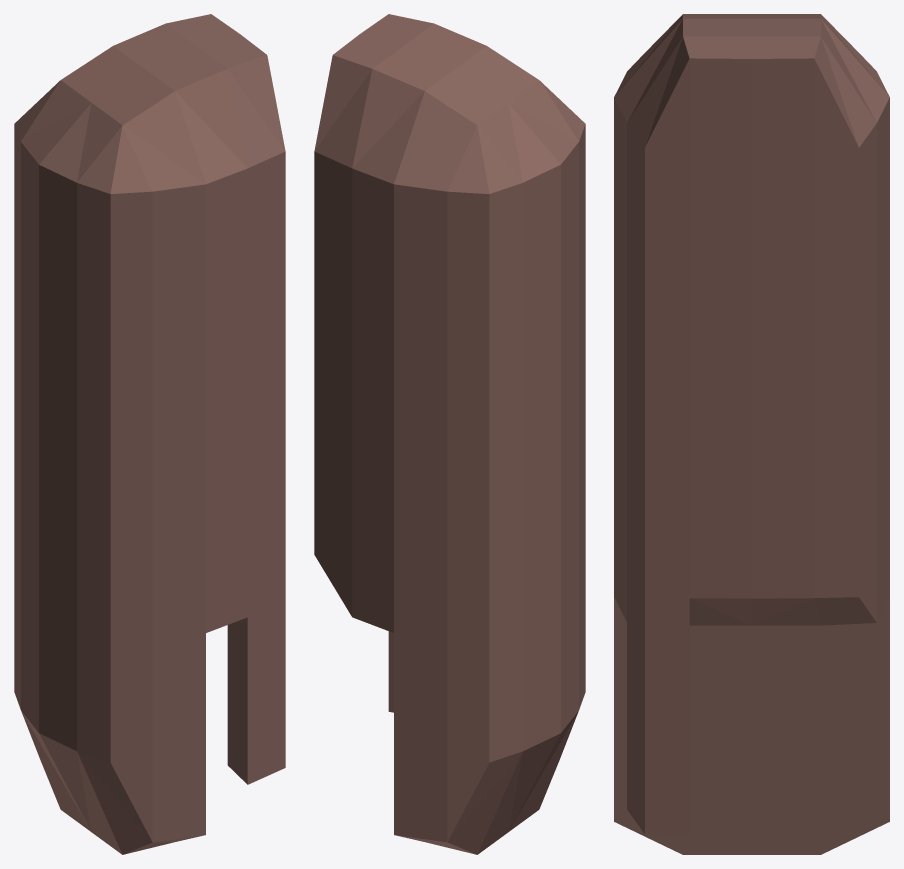
File: pRA.obj
The picture shows the model from 3 angles, left to right: view 1: azimuth 30°, elevation 25°; view 2: azimuth 150°, elevation 25°; view 3: azimuth 270°, elevation 25°; orthographic projection. The views are drawn at different scales.
Visible parts, largest first — view 1: 立方体; view 2: 立方体; view 3: 立方体.
Part boxes in pixels (box(x1,y1,x2,y2)): 立方体: box(14, 14, 285, 854); 立方体: box(314, 14, 585, 854); 立方体: box(614, 14, 889, 854).
Size of the model in its own units: 0.4693 by 1.7 by 0.5.
